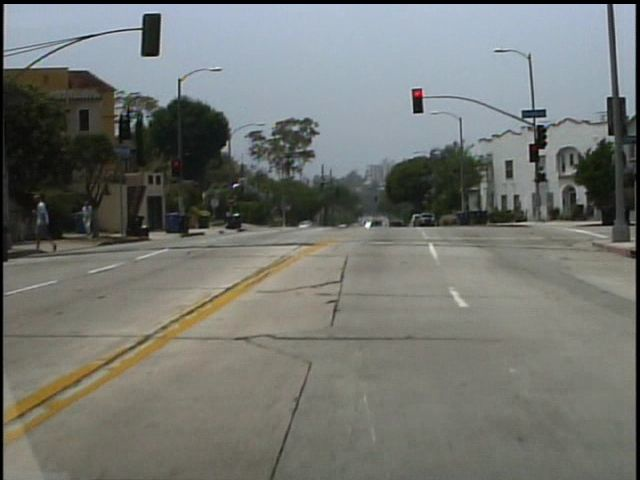person: (34, 191, 63, 253), (86, 201, 100, 242)
